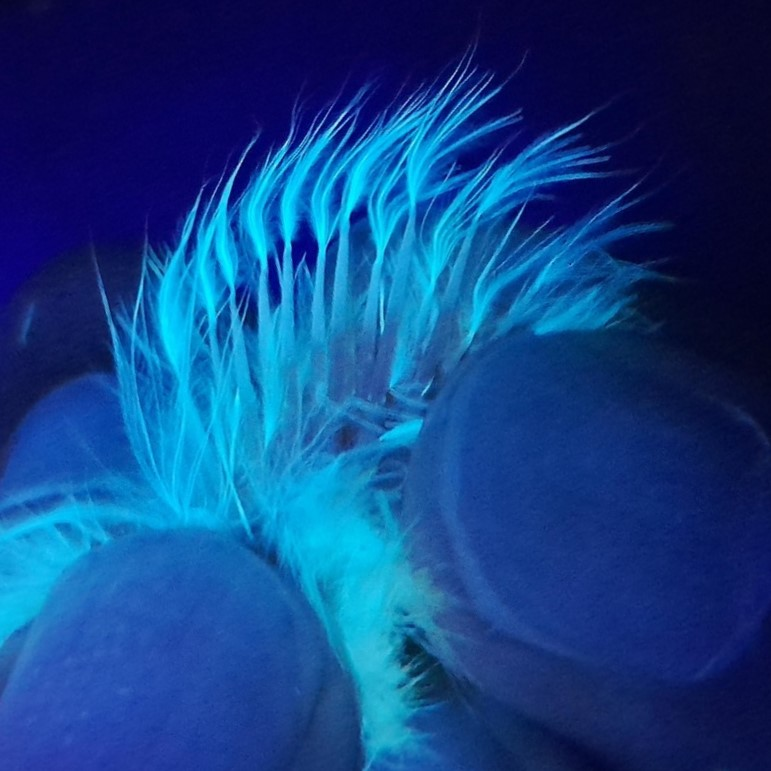male: (177, 180, 559, 505)
